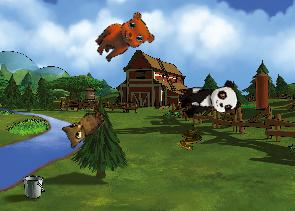bear: (89, 5, 159, 74)
owl: (56, 98, 107, 152)
panda: (176, 78, 241, 122)
